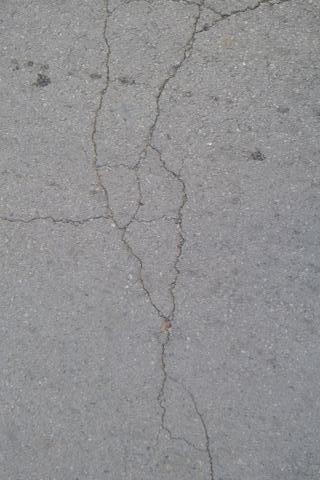A: (95, 1, 288, 480), (2, 209, 111, 233)
